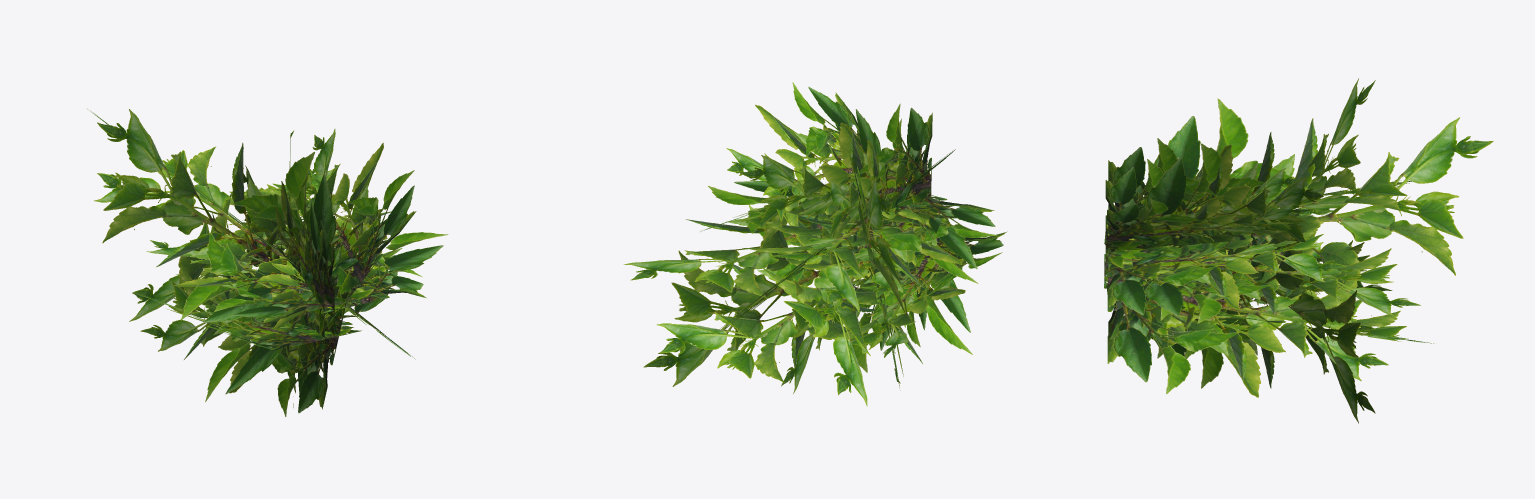
Rendered from Bush_02.FBX.
The picture shows the model from 3 angles, left to right: view 1: azimuth 30°, elevation 25°; view 2: azimuth 150°, elevation 25°; view 3: azimuth 270°, elevation 25°; orthographic projection. The views are drawn at different scales.
Parts seen in each view (by area): view 1: Bush_02; view 2: Bush_02; view 3: Bush_02.
Part boxes in pixels (x1,y1,x2,y2): Bush_02: (87,109,448,416); Bush_02: (623,82,1007,406); Bush_02: (1104,78,1493,423).
Bounding box in the file's own units: 28.01 × 27.18 × 25.42.
